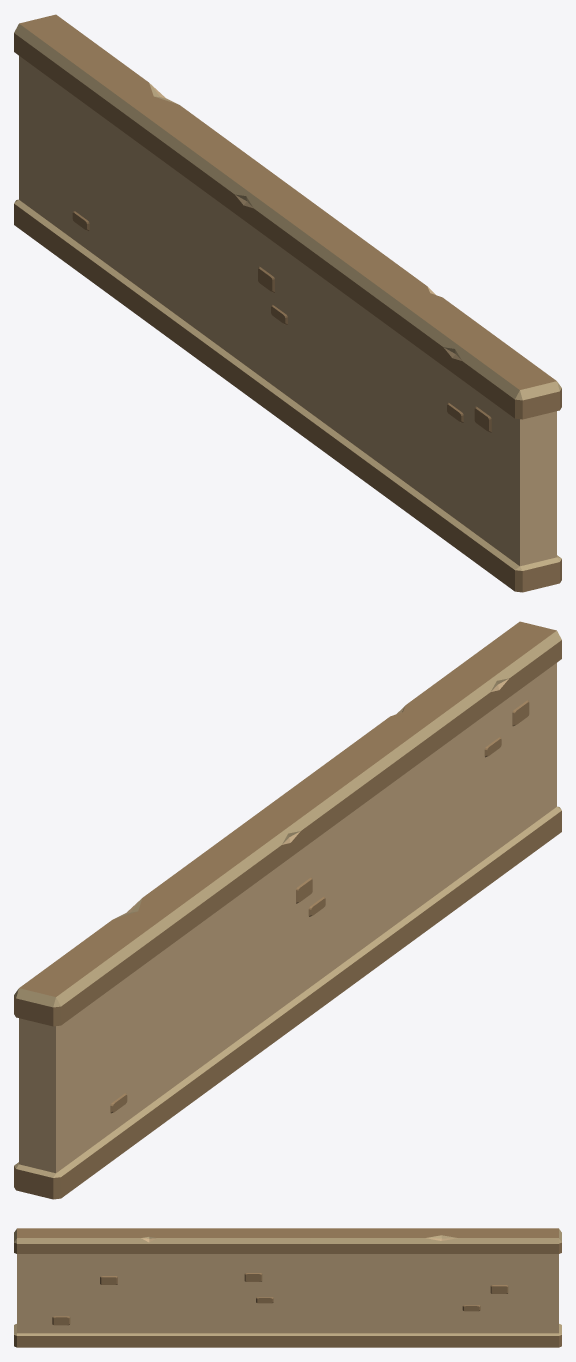
Rendered from FenceStoneLarge_02.glb.
3 renders of one model, top to bottom at view 1: azimuth 30°, elevation 25°; view 2: azimuth 150°, elevation 25°; view 3: azimuth 270°, elevation 25°, orthographic. The views are drawn at different scales.
Visible parts, largest first — view 1: FenceStoneLarge_02; view 2: FenceStoneLarge_02; view 3: FenceStoneLarge_02.
Boxes of the visible parts, <box> form: FenceStoneLarge_02: <box>14,14,561,592</box>; FenceStoneLarge_02: <box>14,621,561,1199</box>; FenceStoneLarge_02: <box>14,1228,561,1347</box>.
Size of what is drawn, in the model's own units: 0.2713 by 1.1 by 5.06.
Materials: 1 (1 with a texture image).
